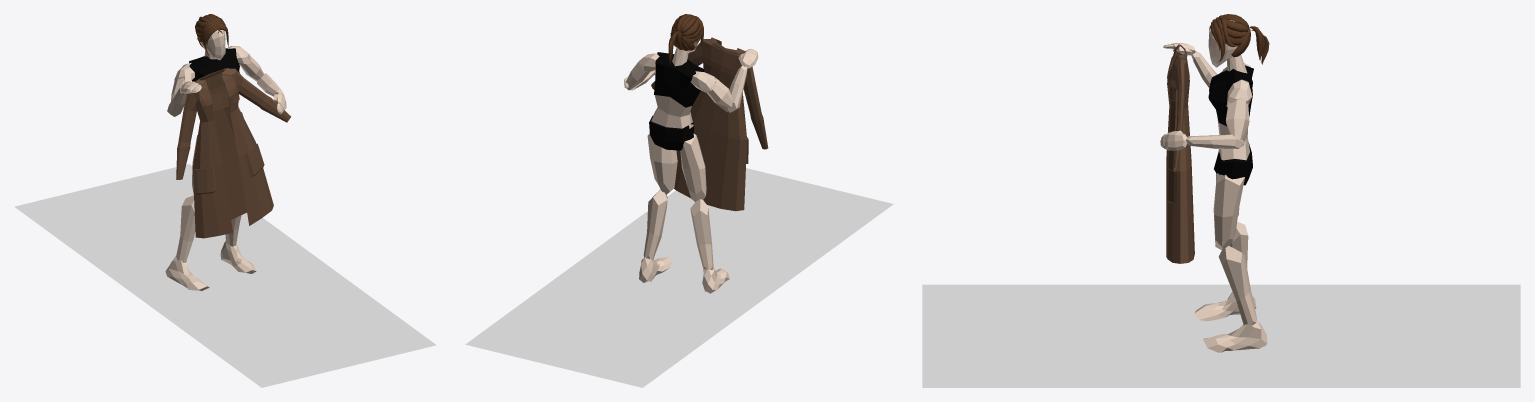
Rendered from sexMum1.fbx.
3 views of the same model, side by side, from view 1: azimuth 30°, elevation 25°; view 2: azimuth 150°, elevation 25°; view 3: azimuth 270°, elevation 25° (orthographic). The views are drawn at different scales.
Parts seen in each view (by area): view 1: Plane.001, uploads_files_2654266_Clothes.003, Cube.008, Chest, Cube.026, Hair_NurbsPath.031, Cube.027, Head; view 2: Plane.001, uploads_files_2654266_Clothes.003, Chest, Cube.007, Cube.019, Hair_NurbsPath.031, Cube.008, Cube.025, Stomach, Hips.001, Cube.027, Cube.006 (+3 smaller); view 3: Plane.001, uploads_files_2654266_Clothes.003, Cube.019, Hair_NurbsPath.031, Cube.025, Cube.027, Chest, Cube.002, Hips.001, Cube.026, Cube.003, Stomach.
Boxes of the visible parts, box(x1,y1,x2,y2) form: Plane.001: box(14, 164, 436, 387); uploads_files_2654266_Clothes.003: box(176, 68, 291, 238); Cube.008: box(176, 195, 195, 262); Chest: box(189, 48, 239, 81); Cube.026: box(165, 256, 209, 291); Hair_NurbsPath.031: box(195, 14, 228, 55); Cube.027: box(220, 240, 256, 273); Head: box(200, 22, 225, 60); Plane.001: box(465, 168, 893, 387); uploads_files_2654266_Clothes.003: box(651, 37, 768, 211); Chest: box(654, 52, 704, 107); Cube.007: box(680, 133, 706, 201); Cube.019: box(647, 133, 677, 194); Hair_NurbsPath.031: box(668, 14, 703, 64); Cube.008: box(690, 199, 713, 269); Cube.025: box(643, 189, 667, 260); Stomach: box(651, 95, 693, 128); Hips.001: box(649, 115, 693, 150); Cube.027: box(639, 257, 672, 282); Cube.006: box(727, 65, 747, 112); Plane.001: box(922, 284, 1520, 387); uploads_files_2654266_Clothes.003: box(1166, 44, 1194, 263); Cube.019: box(1213, 173, 1244, 249); Hair_NurbsPath.031: box(1209, 14, 1269, 64); Cube.025: box(1218, 246, 1256, 325); Cube.027: box(1203, 320, 1267, 352); Chest: box(1208, 65, 1253, 126); Cube.002: box(1226, 97, 1249, 146); Hips.001: box(1214, 143, 1252, 185); Cube.026: box(1194, 292, 1256, 321); Cube.003: box(1186, 134, 1244, 148); Stomach: box(1217, 117, 1249, 160).
Size of the model in its own units: 581 by 830 by 1423.
